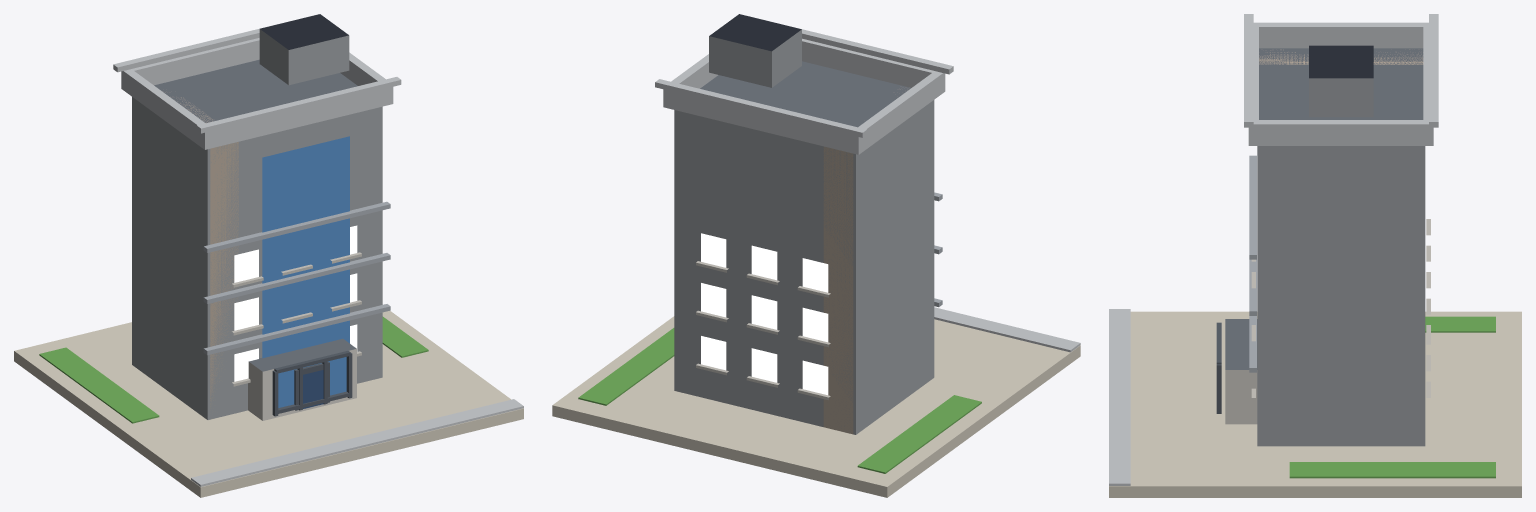
3 renders of one model, left to right at view 1: azimuth 30°, elevation 25°; view 2: azimuth 150°, elevation 25°; view 3: azimuth 270°, elevation 25°, orthographic. The views are drawn at different scales.
Visible parts, largest first — view 1: b16_v2_lod1; view 2: b16_v2_lod1; view 3: b16_v2_lod1.
Part boxes in pixels (box(x1,y1,x2,y2)): b16_v2_lod1: box(14, 14, 523, 497); b16_v2_lod1: box(552, 14, 1080, 497); b16_v2_lod1: box(1109, 14, 1521, 497).
Size of the model in its own units: 0.96 by 0.96 by 0.96.
